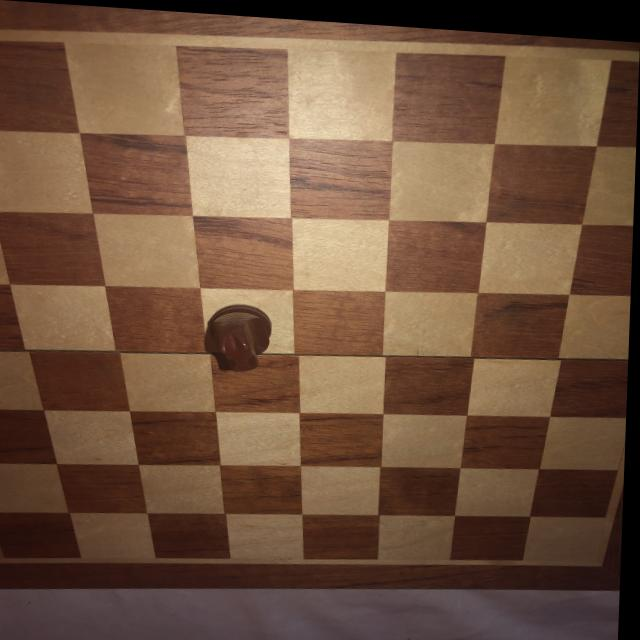black_knight: (207, 299, 274, 372)
